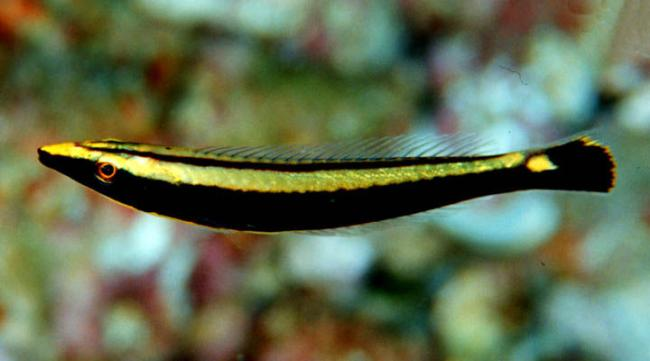fish: (37, 128, 619, 235)
